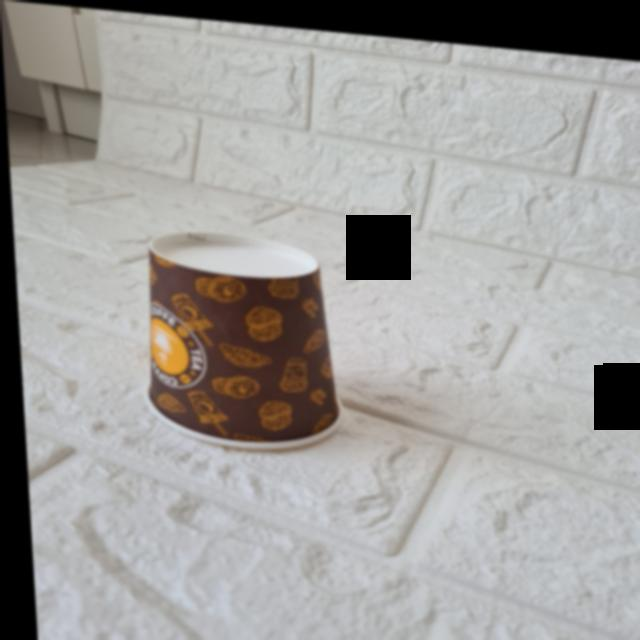cups: (125, 226, 348, 454)
